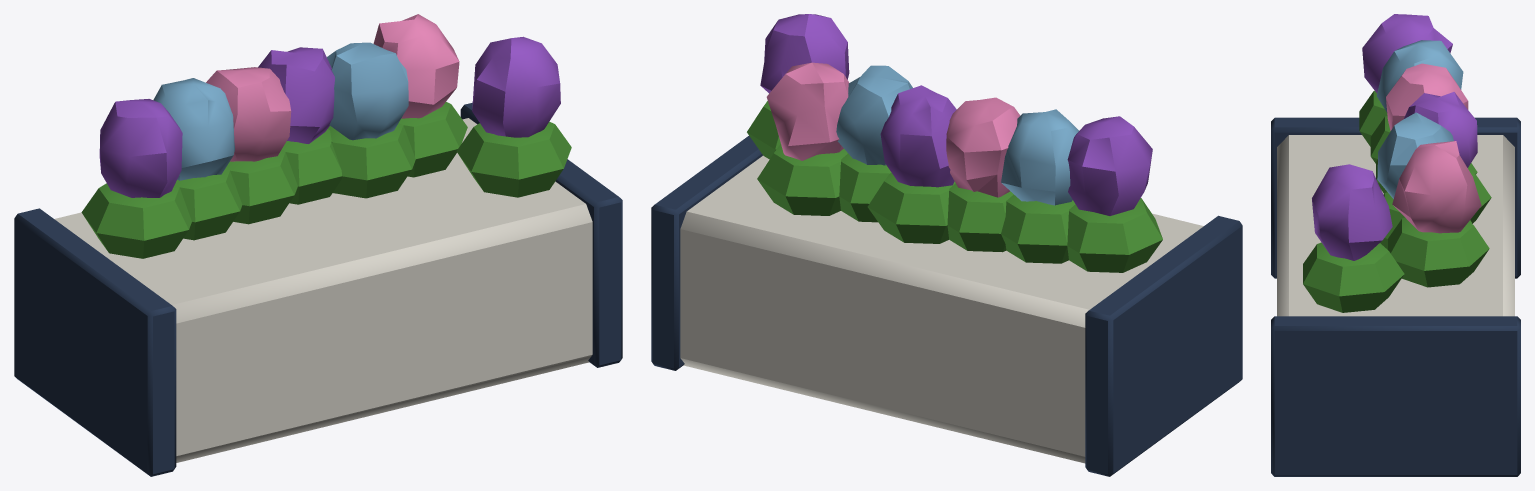
The model's file is 154_jardiniere_hortensias.fbx.
The picture shows the model from 3 angles, left to right: view 1: azimuth 30°, elevation 25°; view 2: azimuth 150°, elevation 25°; view 3: azimuth 270°, elevation 25°; orthographic projection. The views are drawn at different scales.
Parts seen in each view (by area): view 1: Bac, Fleurs; view 2: Bac, Fleurs; view 3: Bac, Fleurs.
Boxes of the visible parts, x1=… form: Bac: x1=14, y1=102, x2=622, y2=476; Fleurs: x1=81, y1=14, x2=571, y2=258; Bac: x1=651, y1=136, x2=1242, y2=476; Fleurs: x1=747, y1=14, x2=1162, y2=272; Bac: x1=1271, y1=117, x2=1520, y2=476; Fleurs: x1=1303, y1=14, x2=1491, y2=312.
Size of the model in its own units: 1.12 by 0.7 by 0.56.
Materials: 1 (1 with a texture image).
